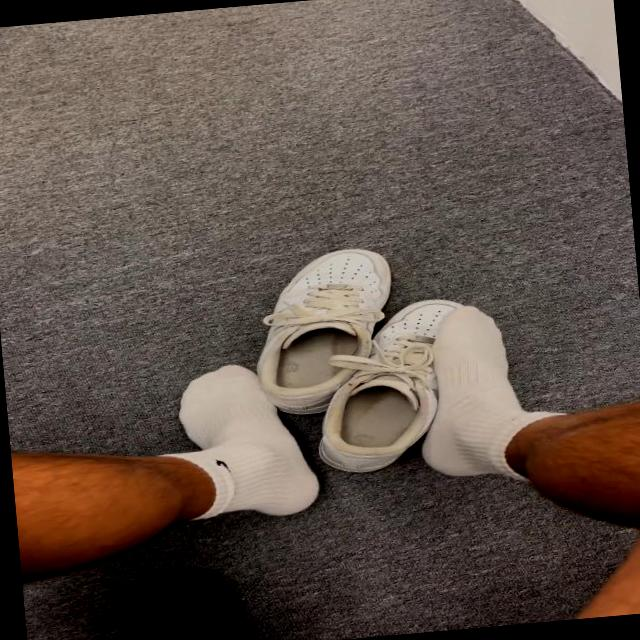nike_original_airforce: (311, 296, 488, 482), (241, 239, 408, 420)
